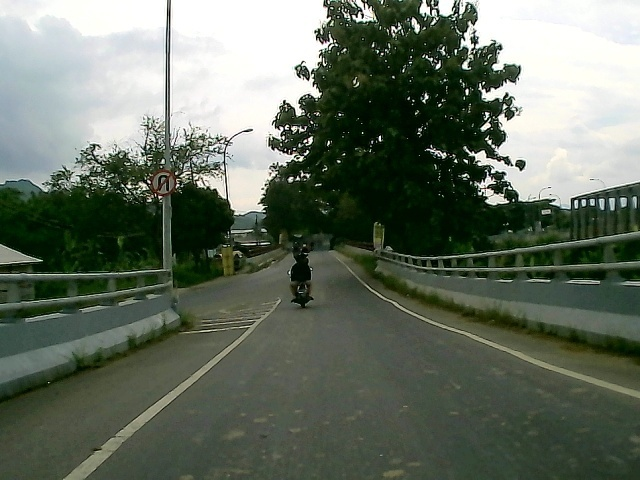Dilarang berbalik arah: (146, 170, 178, 197)
